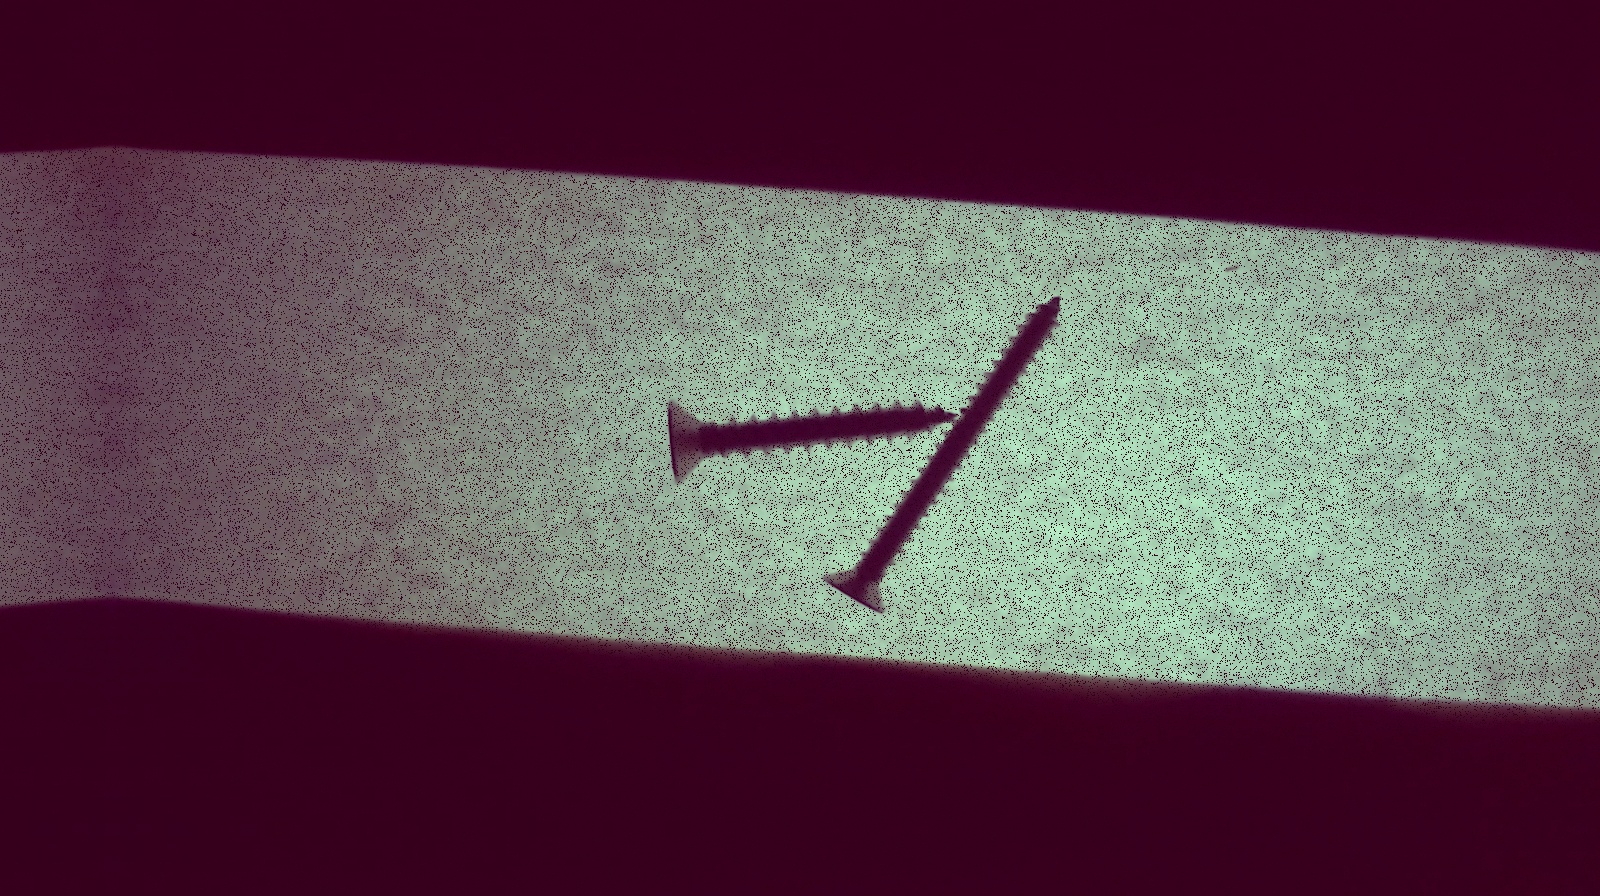S001: (657, 389, 954, 485)
S002: (816, 289, 1071, 615)
